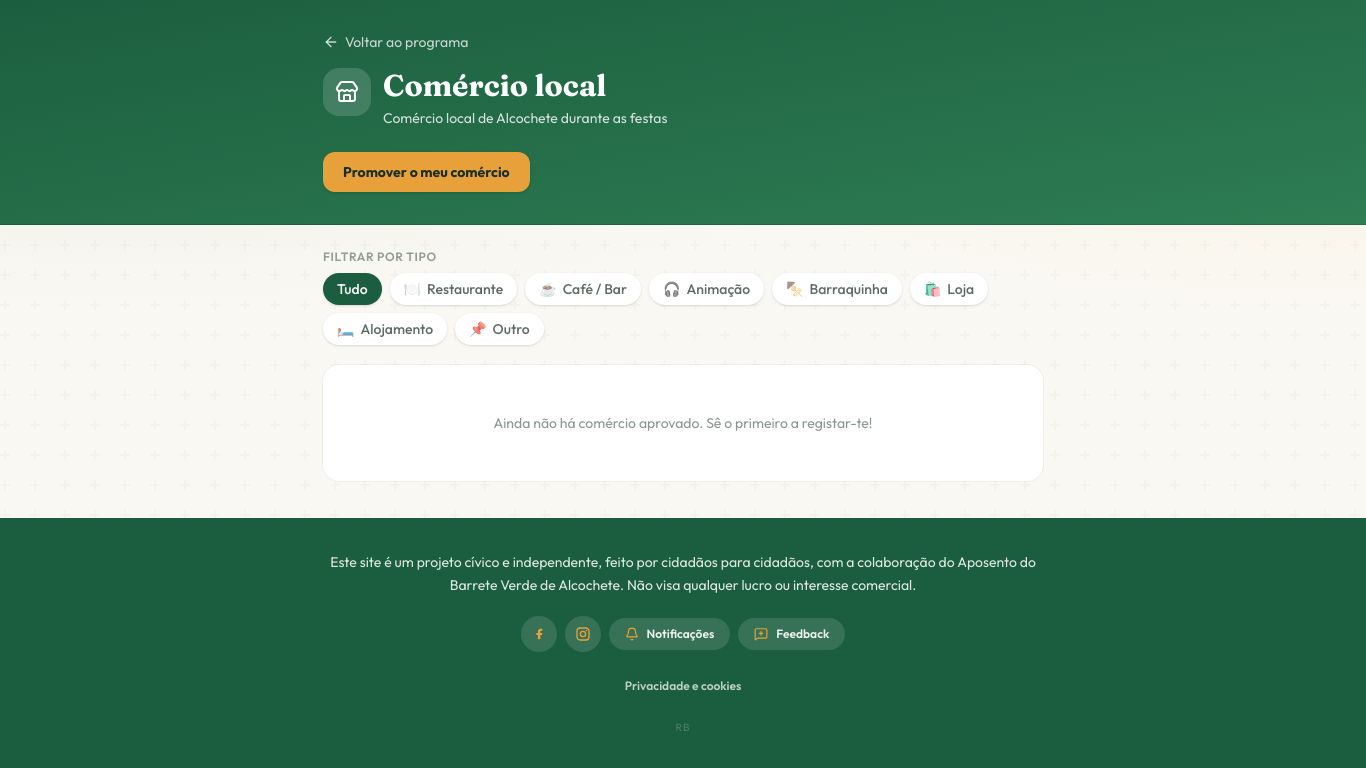
Scenario: Negocios form spam guards › blocks submit while cooldown is active
Step 1. Click the button "Promover o meu comércio" → coordinates (426, 172), box [323,152,530,192]
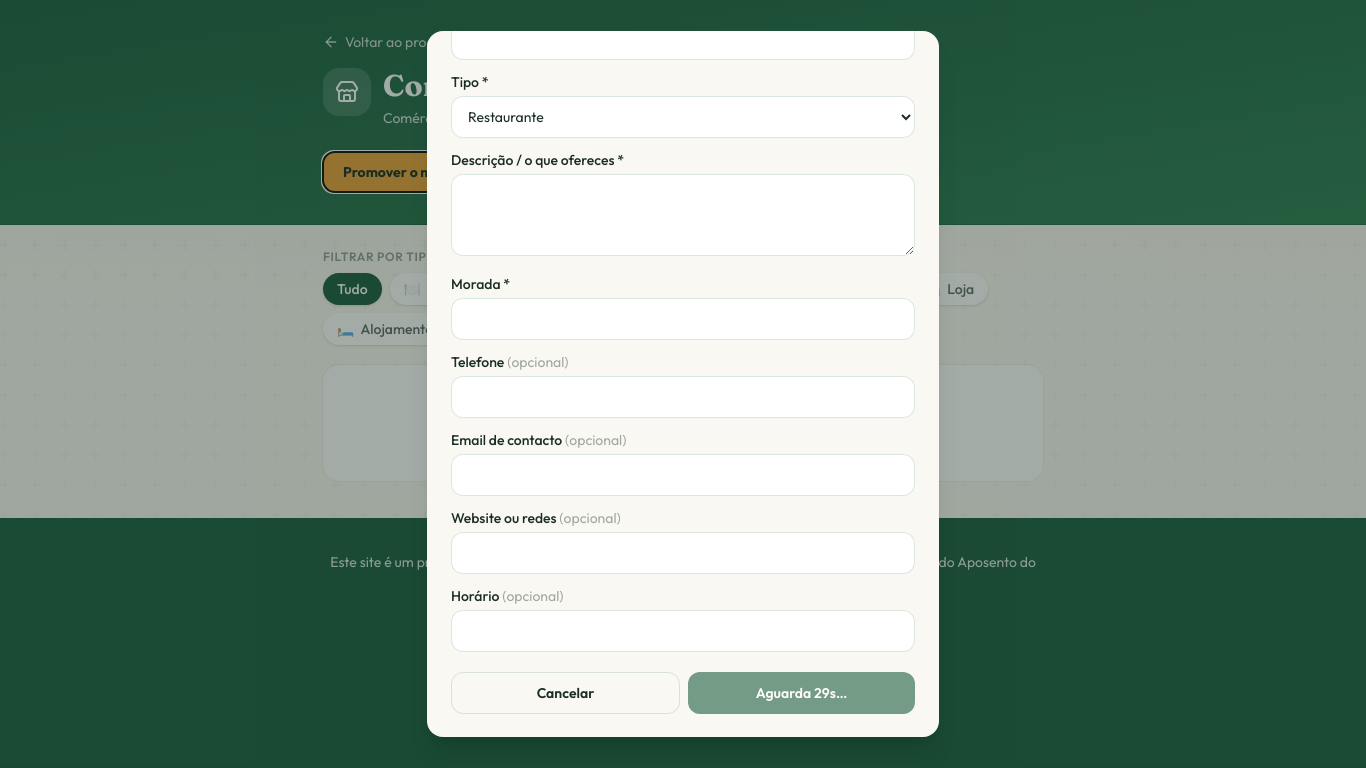
expect the button "Aguarda 29s…" is disabled: met, box [688,672,915,714]
